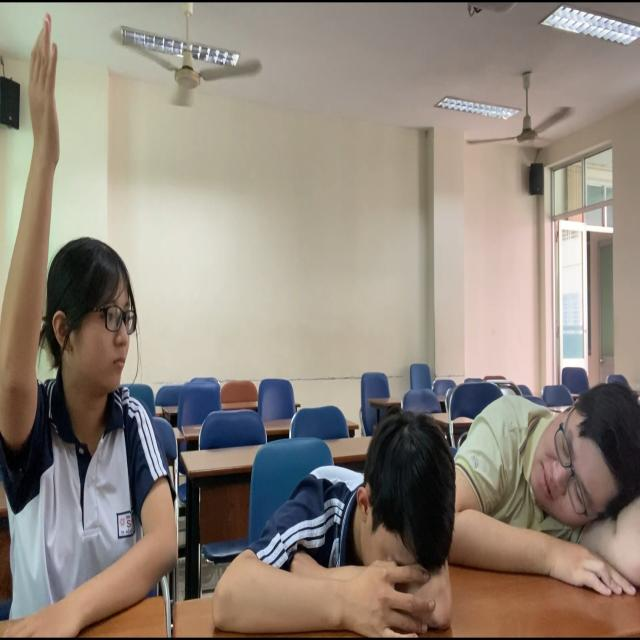raise_hand: (1, 21, 177, 636)
read: (454, 376, 640, 609)
sleep: (210, 411, 470, 640)
